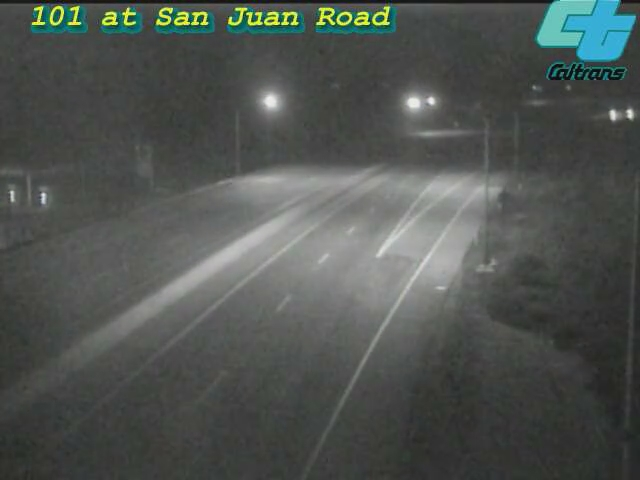vehicle: (590, 90, 640, 140), (604, 89, 640, 139)
